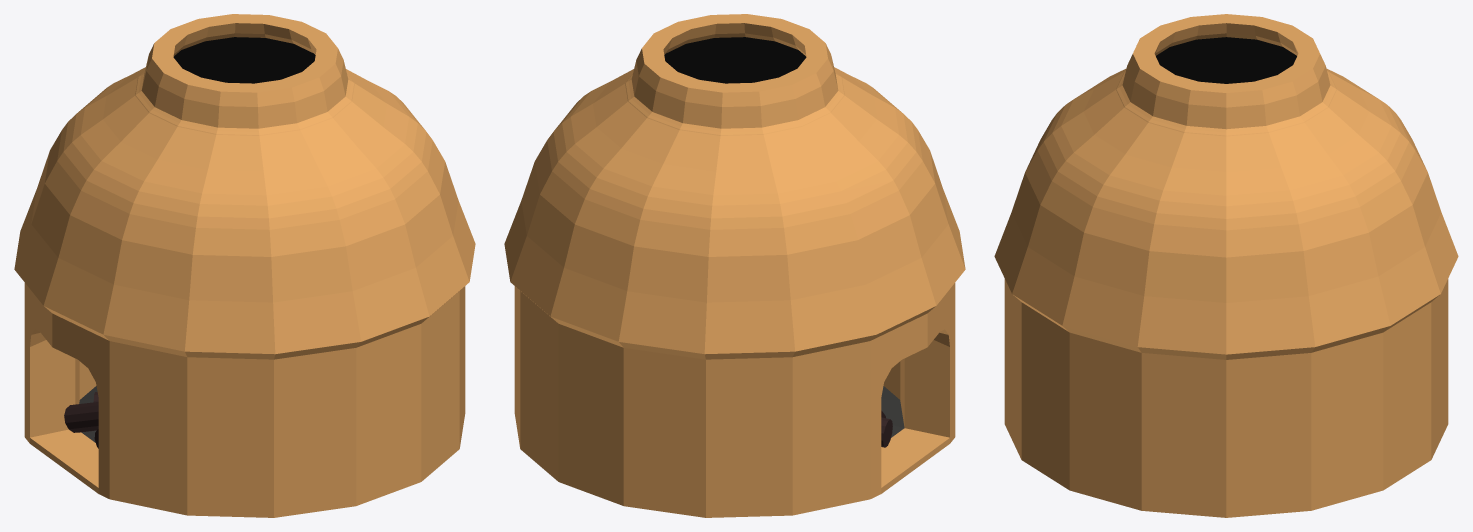
File: Oven.fbx
The picture shows the model from 3 angles, left to right: view 1: azimuth 30°, elevation 25°; view 2: azimuth 150°, elevation 25°; view 3: azimuth 270°, elevation 25°; orthographic projection.
Parts seen in each view (by area): view 1: Oven; view 2: Oven; view 3: Oven.
Part boxes in pixels (x1=…): Oven: x1=14, y1=14, x2=475, y2=517; Oven: x1=504, y1=14, x2=965, y2=517; Oven: x1=994, y1=14, x2=1458, y2=517.
Size of the model in its own units: 152 by 134 by 152.
